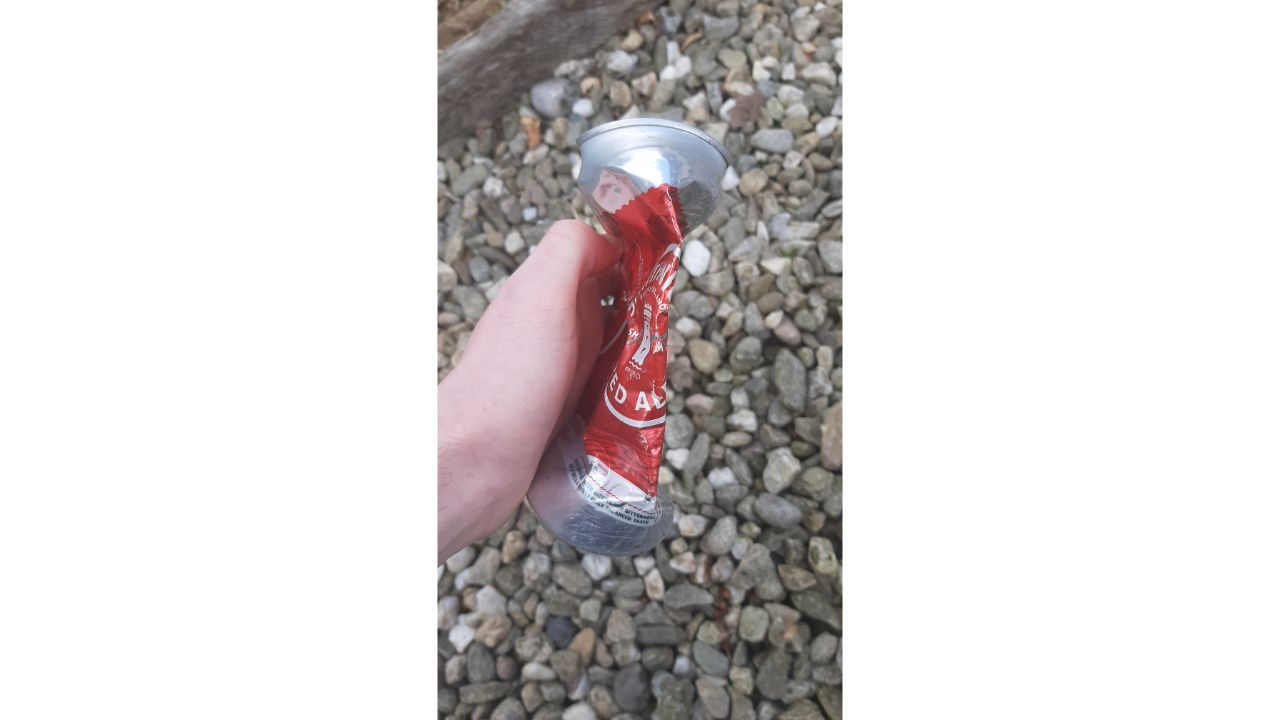Can: (513, 111, 744, 564)
